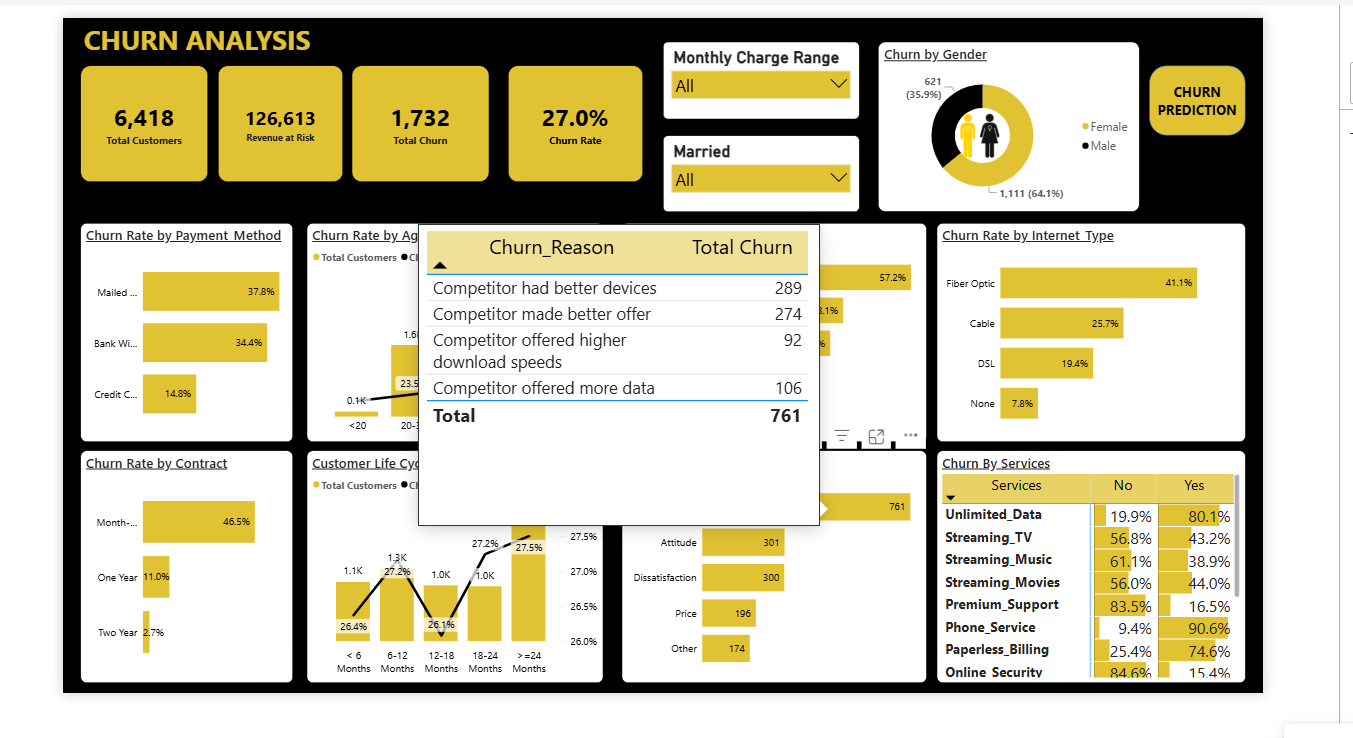

Layout of this report page (visuals, bound fields, positions):
{"tool":"powerbi","page":{"name":"Summary","canvas":[1920,1080],"ordinal":0},"visuals":[{"type":"cardVisual","fields":{"Data":["Table_Measures.Total Customers"]},"box":[28,76,204,186],"z":0},{"type":"donutChart","title":"Churn by Gender","fields":{"Category":["prod_Churn.Gender"],"Y":["Table_Measures.Total Churn"]},"box":[1304,38,418,272],"z":1000},{"type":"lineStackedColumnComboChart","title":"Churn Rate by Age Group","fields":{"Category":["mapping_Agegrp.AgeGroup"],"Y":["Table_Measures.Total Customers"],"Y2":["Table_Measures.Churn Rate"]},"box":[390,328,474,350],"z":2000},{"type":"clusteredBarChart","fields":{"Y":["Table_Measures.Churn Rate"],"Category":["prod_Churn.Payment_Method"]},"box":[28,328,340,350],"z":3000},{"type":"clusteredBarChart","fields":{"Category":["prod_Churn.Contract"],"Y":["Table_Measures.Churn Rate"]},"box":[28,692,340,372],"z":4000},{"type":"lineStackedColumnComboChart","title":"Customer Life Cycle","fields":{"Category":["mapping_tenureGrp.Tenure Group"],"Y":["Table_Measures.Total Customers"],"Y2":["Table_Measures.Churn Rate"]},"box":[390,692,474,372],"z":5000},{"type":"clusteredBarChart","title":"Churn Rate by State(Top 5)","fields":{"Category":["prod_Churn.State"],"Y":["Table_Measures.Churn Rate"]},"box":[894,328,488,350],"z":6000},{"type":"clusteredBarChart","fields":{"Category":["prod_Churn.Churn_Category"],"Y":["Table_Measures.Total Churn"]},"box":[894,692,488,372],"z":7000},{"type":"clusteredBarChart","fields":{"Category":["prod_Churn.Internet_Type"],"Y":["Table_Measures.Churn Rate"]},"box":[1398,328,494,350],"z":8000},{"type":"pivotTable","title":"Churn By Services","fields":{"Rows":["prod_Services.Services"],"Columns":["prod_Services.Status"],"Values":["Sum(prod_Services.Churn Status)"]},"box":[1398,692,494,372],"z":9000},{"type":"slicer","fields":{"Values":["prod_Churn.Monthly Charge Status"]},"box":[960,38,314,124],"z":10000},{"type":"slicer","fields":{"Values":["prod_Churn.Married"]},"box":[960,188,314,122],"z":11000},{"type":"cardVisual","fields":{"Data":["Table_Measures.Monthly Revenue at Risk"]},"box":[248,76,200,186],"z":12000},{"type":"cardVisual","fields":{"Data":["Table_Measures.Total Churn"]},"box":[462,76,220,186],"z":13000},{"type":"cardVisual","fields":{"Data":["Table_Measures.Churn Rate"]},"box":[712,76,216,186],"z":14000},{"type":"image","box":[1422,138,90,98],"z":15000},{"type":"textbox","title":"CHURN ANALYSIS","box":[28,0,406,76],"z":16000},{"type":"shape","box":[1738,76,154,112],"z":17000}]}

Visuals, with their boxes on the page's 1920x1080 design canvas (x1, y1, x2, y2). These are canvas units, not pixel positions in the 1353x738 screenshot, which may show the page scaled, cropped or inside an application window:
cardVisual - Table_Measures.Total Customers: [28, 76, 232, 262]
"Churn by Gender" donutChart: [1304, 38, 1722, 310]
"Churn Rate by Age Group" lineStackedColumnComboChart: [390, 328, 864, 678]
clusteredBarChart - Table_Measures.Churn Rate x prod_Churn.Payment_Method: [28, 328, 368, 678]
clusteredBarChart - prod_Churn.Contract x Table_Measures.Churn Rate: [28, 692, 368, 1064]
"Customer Life Cycle" lineStackedColumnComboChart: [390, 692, 864, 1064]
"Churn Rate by State(Top 5)" clusteredBarChart: [894, 328, 1382, 678]
clusteredBarChart - prod_Churn.Churn_Category x Table_Measures.Total Churn: [894, 692, 1382, 1064]
clusteredBarChart - prod_Churn.Internet_Type x Table_Measures.Churn Rate: [1398, 328, 1892, 678]
"Churn By Services" pivotTable: [1398, 692, 1892, 1064]
slicer - prod_Churn.Monthly Charge Status: [960, 38, 1274, 162]
slicer - prod_Churn.Married: [960, 188, 1274, 310]
cardVisual - Table_Measures.Monthly Revenue at Risk: [248, 76, 448, 262]
cardVisual - Table_Measures.Total Churn: [462, 76, 682, 262]
cardVisual - Table_Measures.Churn Rate: [712, 76, 928, 262]
image: [1422, 138, 1512, 236]
"CHURN ANALYSIS" textbox: [28, 0, 434, 76]
shape: [1738, 76, 1892, 188]
